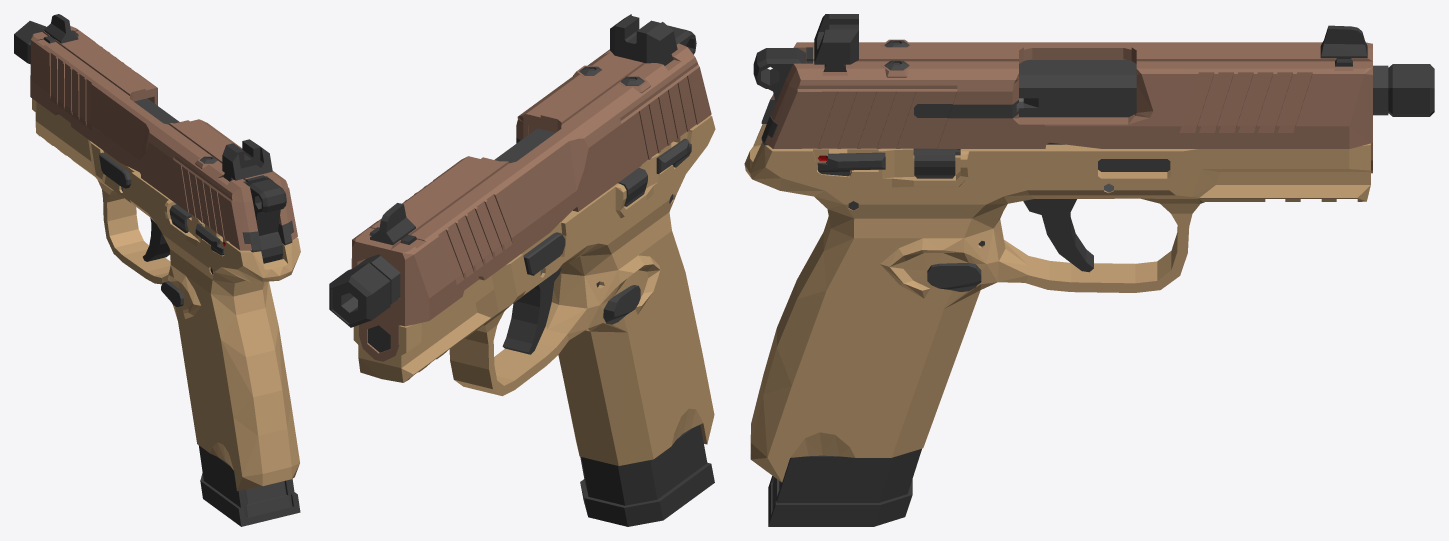
File: pistol__fn_502_tactical_fde.glb
The picture shows the model from 3 angles, left to right: view 1: azimuth 30°, elevation 25°; view 2: azimuth 150°, elevation 25°; view 3: azimuth 270°, elevation 25°; orthographic projection. The views are drawn at different scales.
Parts seen in each view (by area): view 1: FN502_1, 15 Round Magazine_0; view 2: FN502_1, 15 Round Magazine_0; view 3: FN502_1, 15 Round Magazine_0.
Boxes of the visible parts, bbox=[...] form: FN502_1: bbox=[14, 14, 300, 491]; 15 Round Magazine_0: bbox=[198, 445, 300, 526]; FN502_1: bbox=[329, 14, 715, 465]; 15 Round Magazine_0: bbox=[580, 425, 714, 526]; FN502_1: bbox=[744, 14, 1434, 482]; 15 Round Magazine_0: bbox=[768, 149, 960, 526].
Size of the model in its own units: 0.9165 by 4.57 by 5.89.
